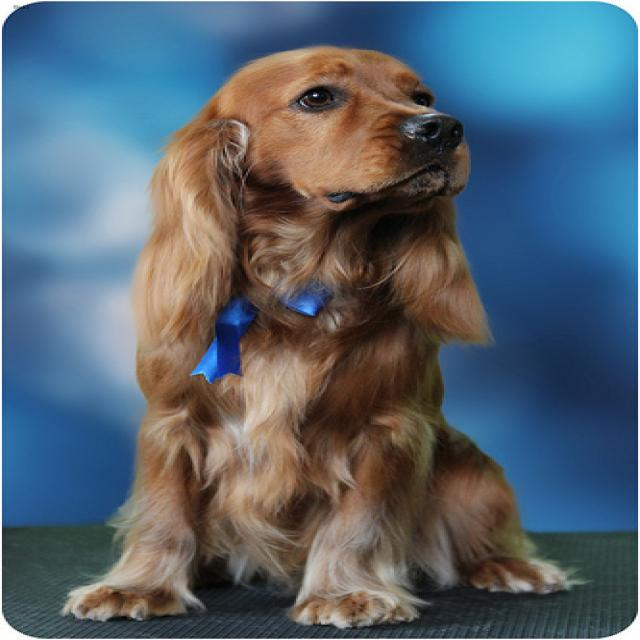dog-english_cocker_spaniel: (44, 33, 596, 637)
